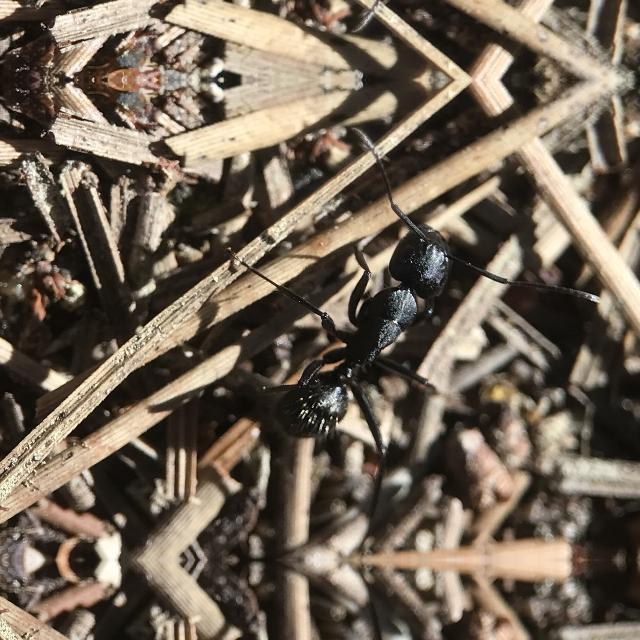Camponotus: (244, 202, 512, 462)
